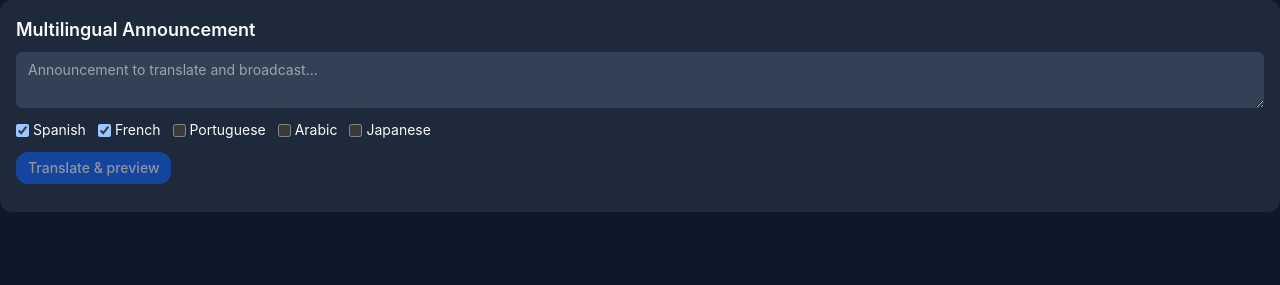
Test case: Operator panels › NotifyPanel translates an announcement
Type "Gates close soon" into the text box named "announcement message" at (640, 80), box 16,52 -> 1264,108
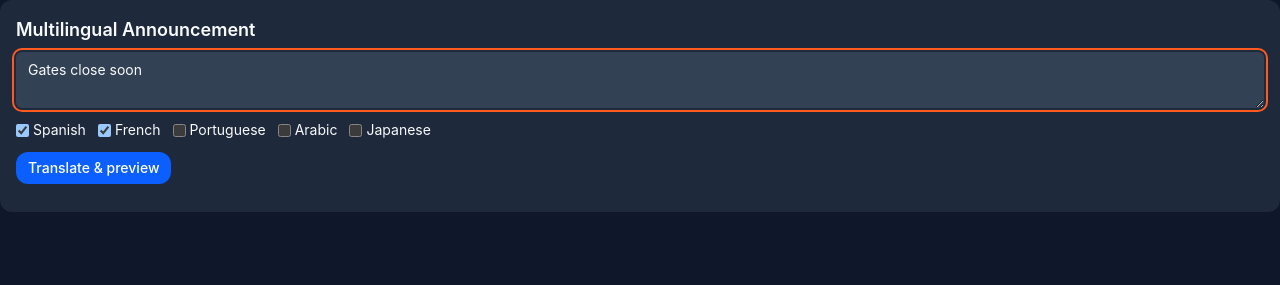
Click the button "Translate & preview" at (94, 168), box 16,152 -> 172,184
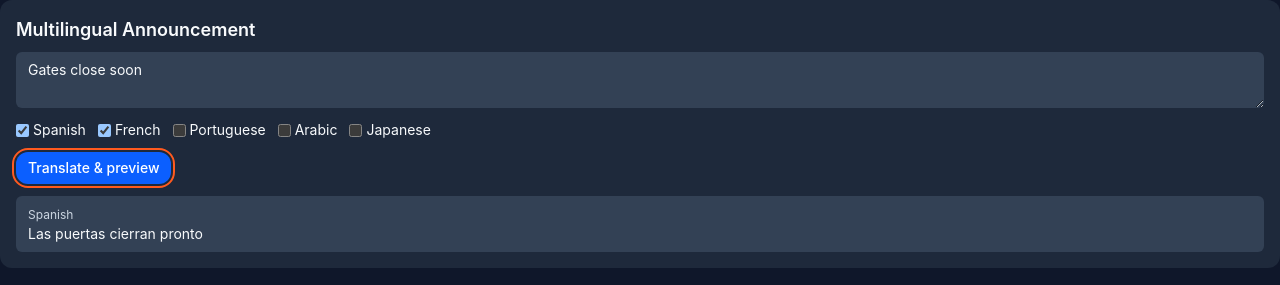
Now the text "Las puertas cierran pronto" is shown, box 28,225 -> 203,242
